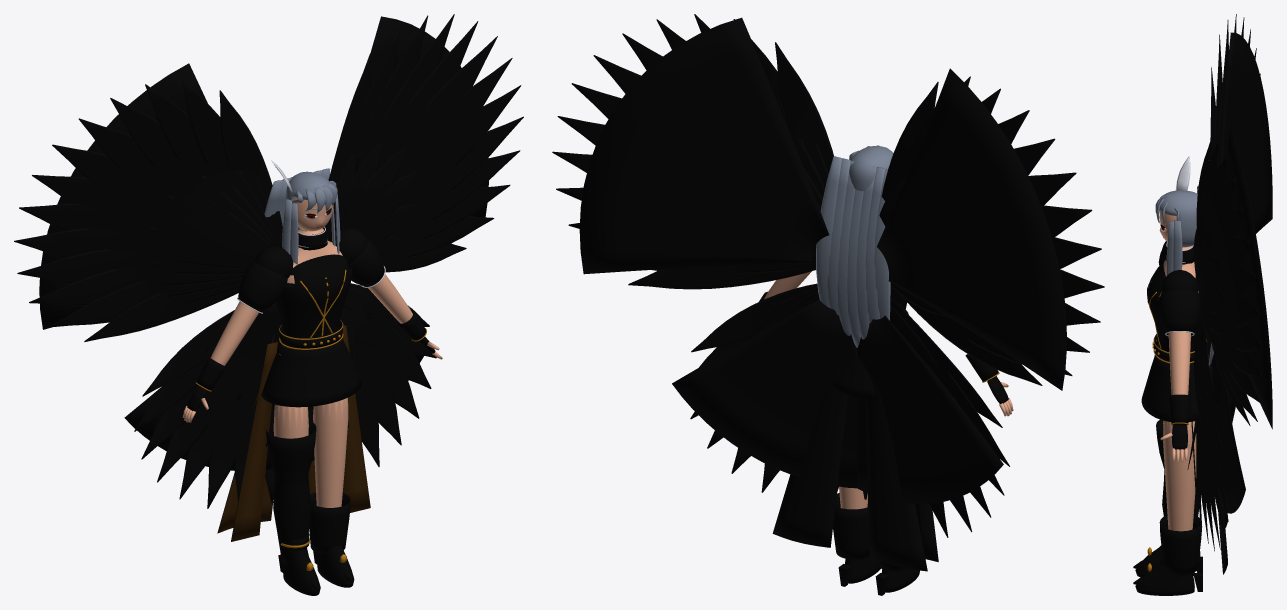
File: Reinforce_Eins_TV.obj
3 renders of one model, left to right at view 1: azimuth 30°, elevation 25°; view 2: azimuth 150°, elevation 25°; view 3: azimuth 270°, elevation 25°, orthographic. The views are drawn at different scales.
Parts seen in each view (by area): view 1: GEO-Wing_Upper_R_F06, GEO-Dress_Skirt, GEO-Dress_Bodice, GEO-Stocking_Long_R, GEO-Wing_Upper_R_F07, GEO-Wing_Upper_R_F05, GEO-Wing_Lower_R_F05, GEO-Wing_Upper_R_F08, GEO-Wing_Upper_R_F04, GEO-Coat_Side_R, GEO-Wing_Upper_R_F09, GEO-Wing_Upper_R_F03 (+55 smaller); view 2: GEO-Wing_Upper_L_Backing, GEO-Wing_Upper_R_Backing, GEO-Wing_Lower_L_Backing, GEO-Wing_Lower_R_Backing, GEO-Coat_Back_L, GEO-Coat_Back_R, GEO-Wing_Upper_L_F12, GEO-Wing_Upper_L_F00, GEO-Wing_Lower_L_F10, GEO-Wing_Upper_R_F00, GEO-Sock_Short_L, GEO-Wing_Upper_R_F12 (+19 smaller); view 3: GEO-Wing_Upper_R_Backing, GEO-Wing_Upper_L_Backing, GEO-Leg_L, GEO-Wing_Lower_L_Backing, GEO-Dress_Skirt, GEO-Sock_Short_L, GEO-Dress_Sleeve_L, GEO-Shoe_L, GEO-Hair_Cap, GEO-Arm_L, GEO-Dress_Bodice, GEO-Wing_Upper_L_F06 (+45 smaller).
Part boxes in pixels (<box>): GEO-Wing_Upper_R_F06: <box>32,175,265,264</box>; GEO-Dress_Skirt: <box>261,338,361,407</box>; GEO-Dress_Bodice: <box>275,246,352,338</box>; GEO-Stocking_Long_R: <box>265,420,316,564</box>; GEO-Wing_Upper_R_F07: <box>52,144,269,258</box>; GEO-Wing_Upper_R_F05: <box>19,203,259,268</box>; GEO-Wing_Lower_R_F05: <box>207,302,280,508</box>; GEO-Wing_Upper_R_F08: <box>78,118,273,246</box>; GEO-Wing_Upper_R_F04: <box>14,228,246,274</box>; GEO-Coat_Side_R: <box>231,341,277,541</box>; GEO-Wing_Upper_R_F09: <box>110,98,277,246</box>; GEO-Wing_Upper_R_F03: <box>17,249,243,285</box>; GEO-Wing_Upper_L_Backing: <box>579,17,829,274</box>; GEO-Wing_Upper_R_Backing: <box>877,68,1066,390</box>; GEO-Wing_Lower_L_Backing: <box>672,299,857,488</box>; GEO-Wing_Lower_R_Backing: <box>857,315,1003,503</box>; GEO-Coat_Back_L: <box>772,366,848,547</box>; GEO-Coat_Back_R: <box>865,375,927,571</box>; GEO-Wing_Upper_L_F12: <box>775,42,833,173</box>; GEO-Wing_Upper_L_F00: <box>628,265,815,289</box>; GEO-Wing_Lower_L_F10: <box>691,283,817,352</box>; GEO-Wing_Upper_R_F00: <box>900,294,1042,385</box>; GEO-Sock_Short_L: <box>833,493,869,559</box>; GEO-Wing_Upper_R_F12: <box>881,82,938,200</box>; GEO-Wing_Upper_R_Backing: <box>1220,32,1272,233</box>; GEO-Wing_Upper_L_Backing: <box>1223,124,1272,429</box>; GEO-Leg_L: <box>1163,421,1196,531</box>; GEO-Wing_Lower_L_Backing: <box>1212,354,1245,513</box>; GEO-Dress_Skirt: <box>1141,344,1199,421</box>; GEO-Sock_Short_L: <box>1159,515,1201,575</box>; GEO-Dress_Sleeve_L: <box>1158,290,1200,335</box>; GEO-Shoe_L: <box>1135,560,1194,595</box>; GEO-Hair_Cap: <box>1159,190,1197,247</box>; GEO-Arm_L: <box>1168,332,1190,394</box>; GEO-Dress_Bodice: <box>1147,261,1205,351</box>; GEO-Wing_Upper_L_F06: <box>1215,264,1256,300</box>.
Bounding box in the file's own units: 2.25 × 2.18 × 0.5457.
